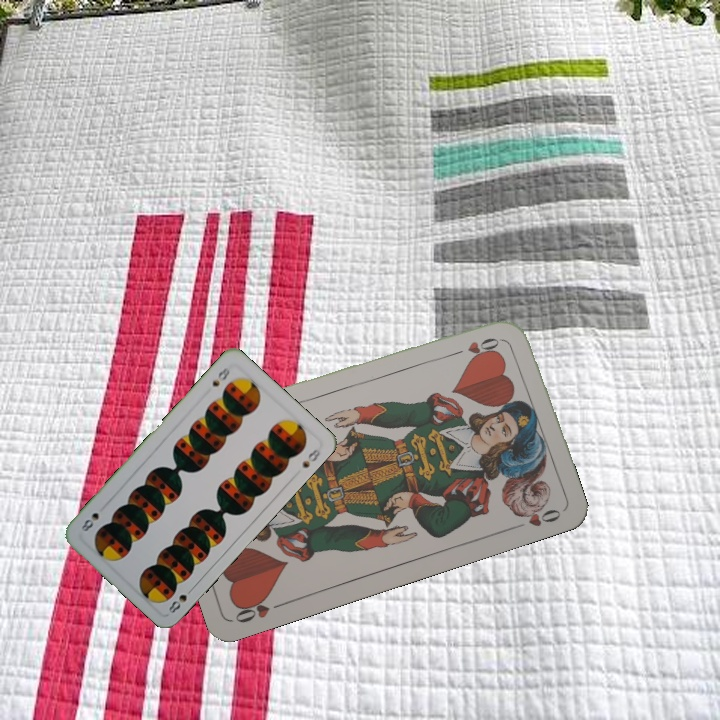HO: (231, 593, 288, 626), (448, 333, 506, 359)
S8: (164, 582, 197, 616), (208, 361, 232, 389)
